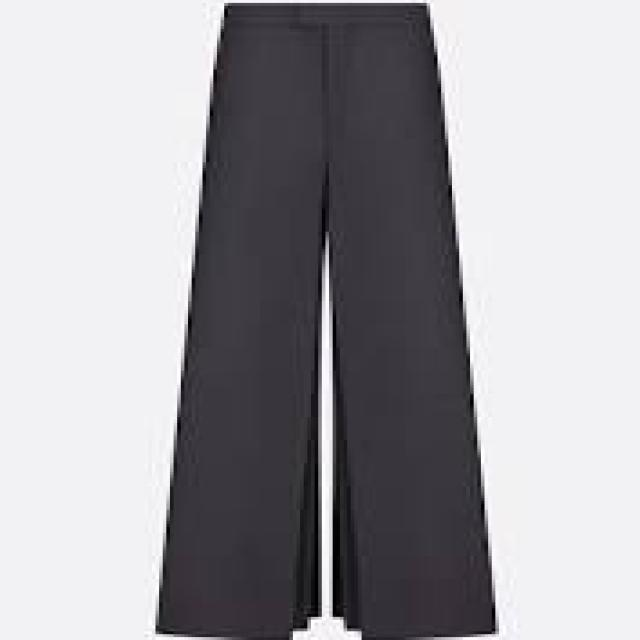long-pants: (150, 0, 501, 640)
